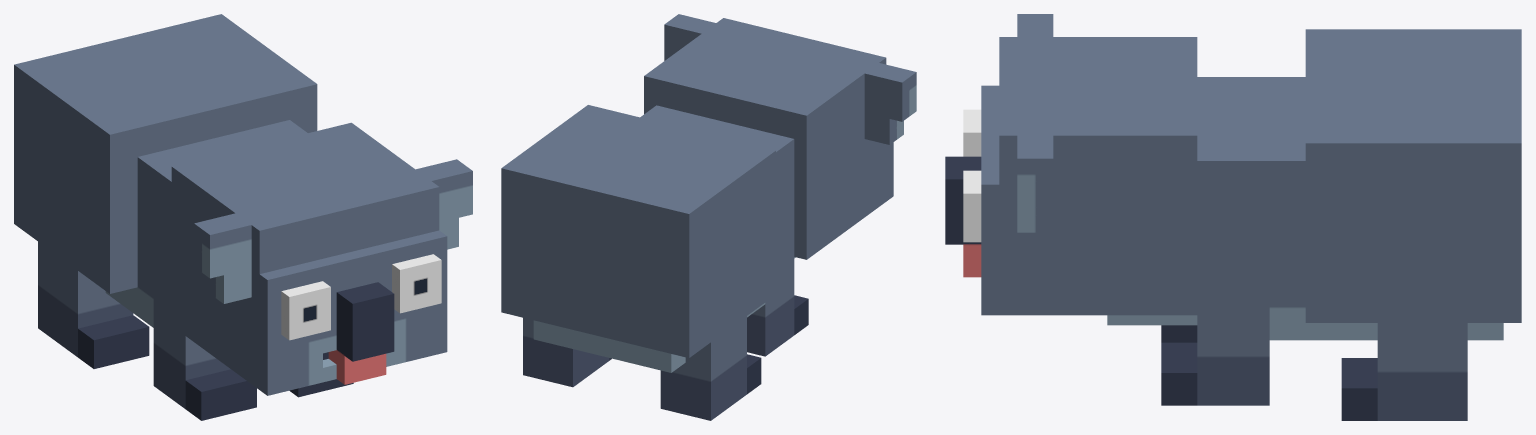
The model's file is Koala.fbx.
3 views of the same model, side by side, from view 1: azimuth 30°, elevation 25°; view 2: azimuth 150°, elevation 25°; view 3: azimuth 270°, elevation 25° (orthographic). The views are drawn at different scales.
Visible parts, largest first — view 1: Koala; view 2: Koala; view 3: Koala.
Boxes of the visible parts, <box> form: Koala: <box>14,14,472,420</box>; Koala: <box>501,14,916,420</box>; Koala: <box>945,14,1521,420</box>.
Bounding box in the file's own units: 57 × 51 × 96.
